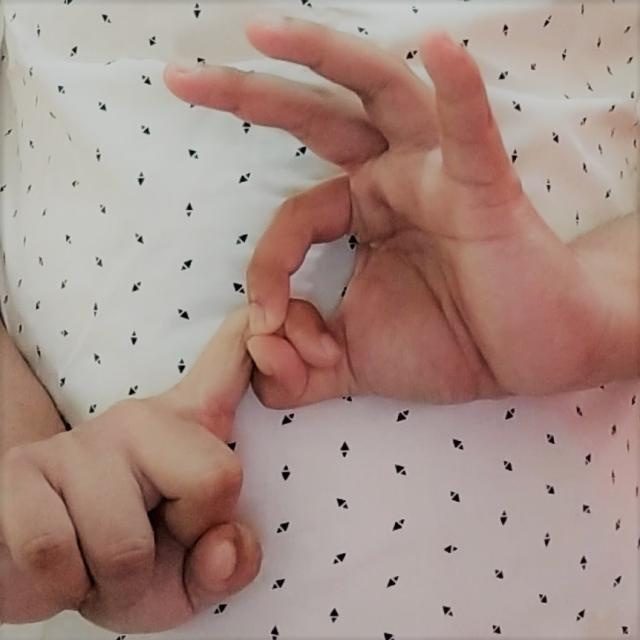Q: (11, 8, 607, 627)
